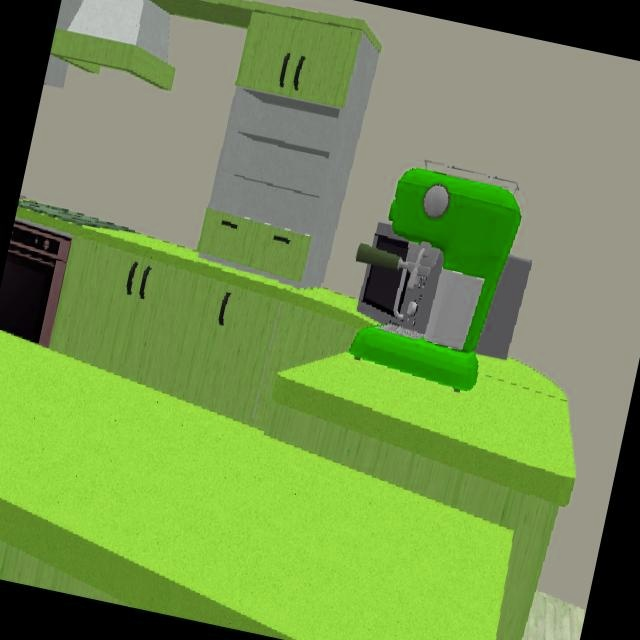cabinet: (148, 0, 379, 119), (196, 206, 312, 284)
countertop: (0, 331, 515, 640), (271, 353, 576, 506), (15, 200, 359, 314)
microwave: (357, 223, 443, 335), (474, 255, 532, 362)
oven: (0, 218, 70, 348)
shelf: (207, 33, 379, 287)
stove: (15, 197, 132, 236)
